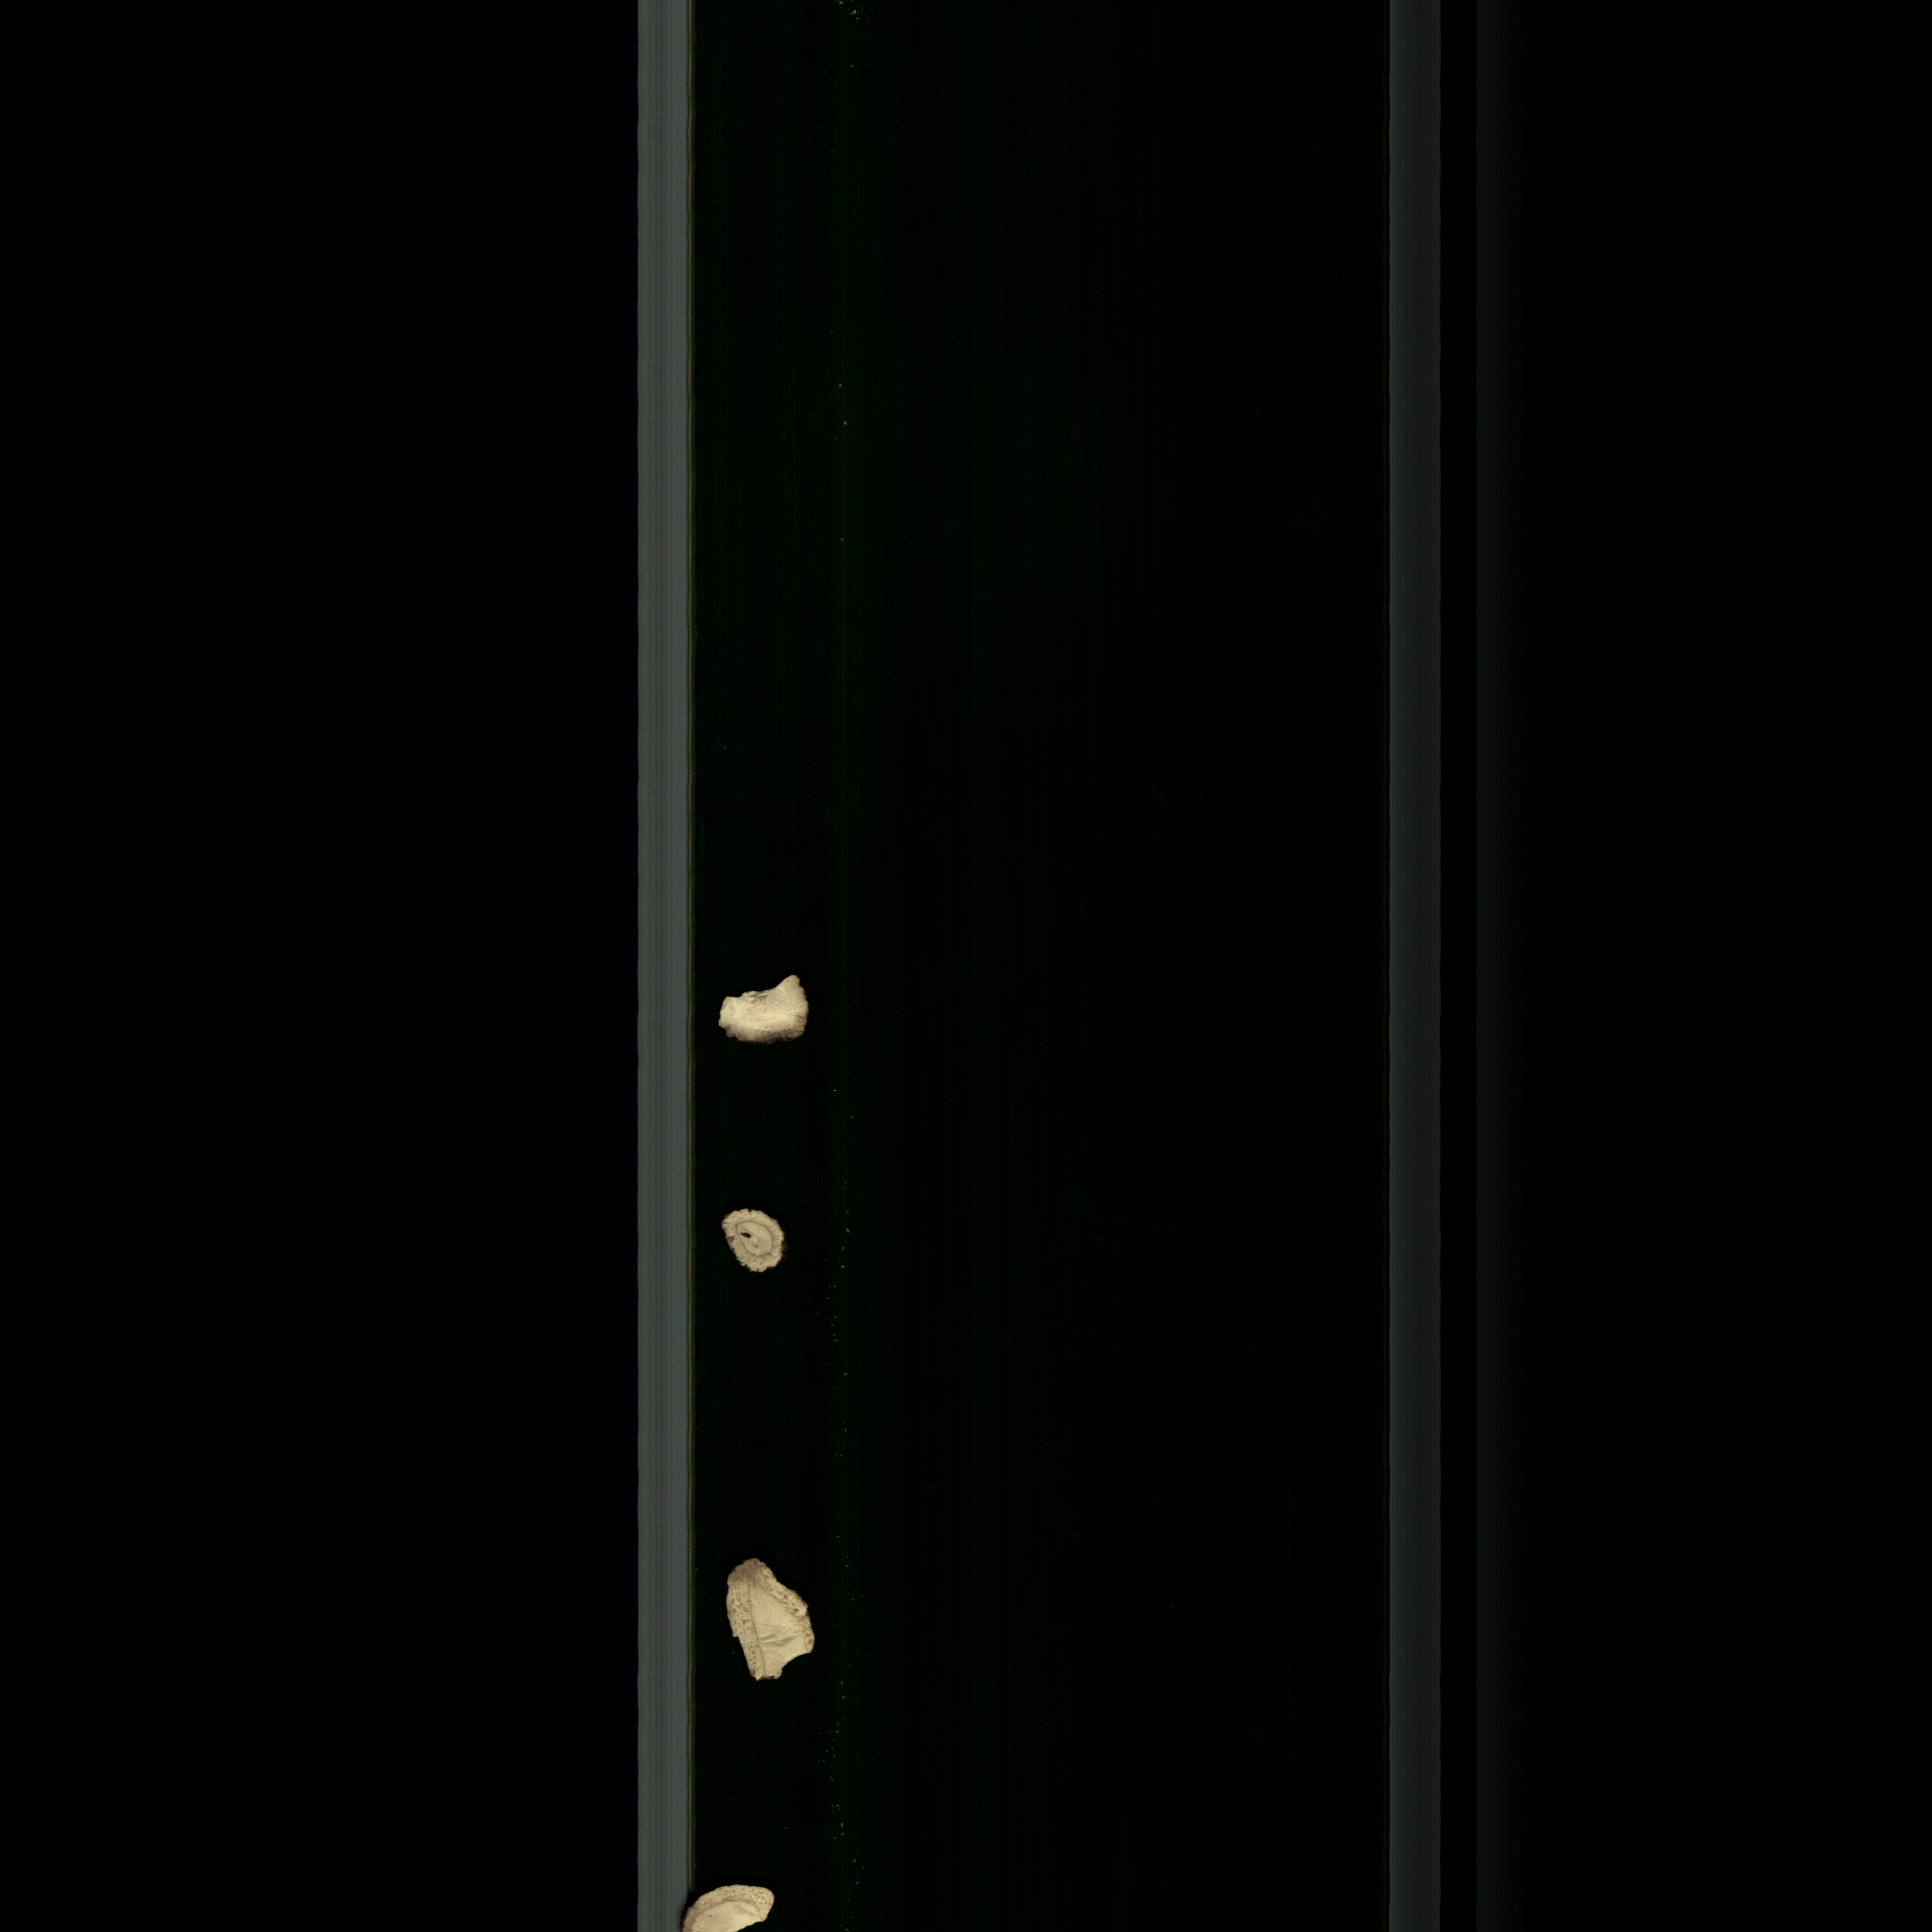debris: (725, 1557, 823, 1691), (704, 973, 826, 1049), (679, 1881, 786, 1932)
hole: (715, 1203, 791, 1286)
